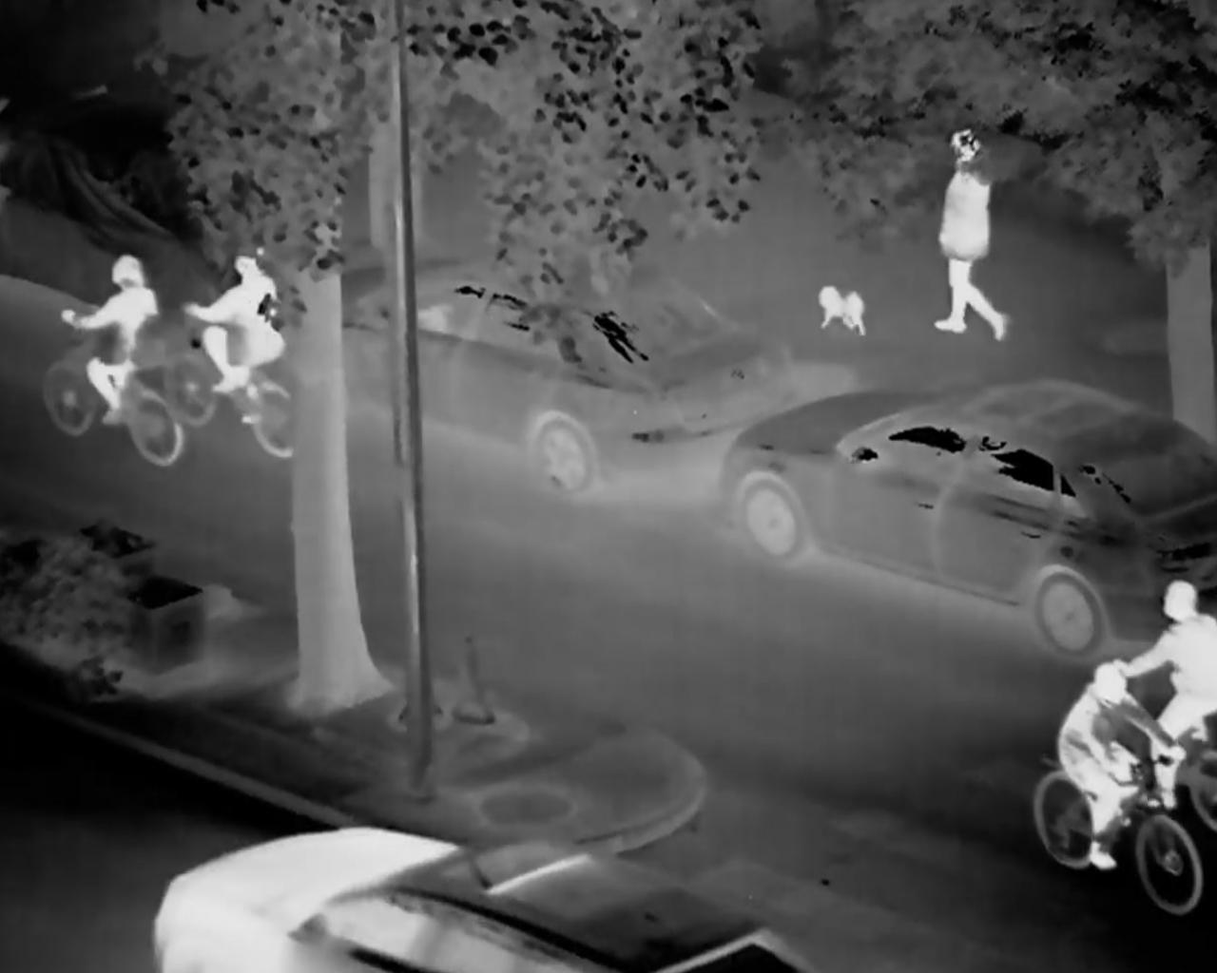person: (1057, 660, 1182, 870), (57, 250, 166, 455), (919, 129, 1017, 349), (183, 249, 300, 419), (1126, 581, 1217, 793)
